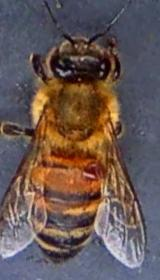varroa_mite: (79, 150, 110, 186)
